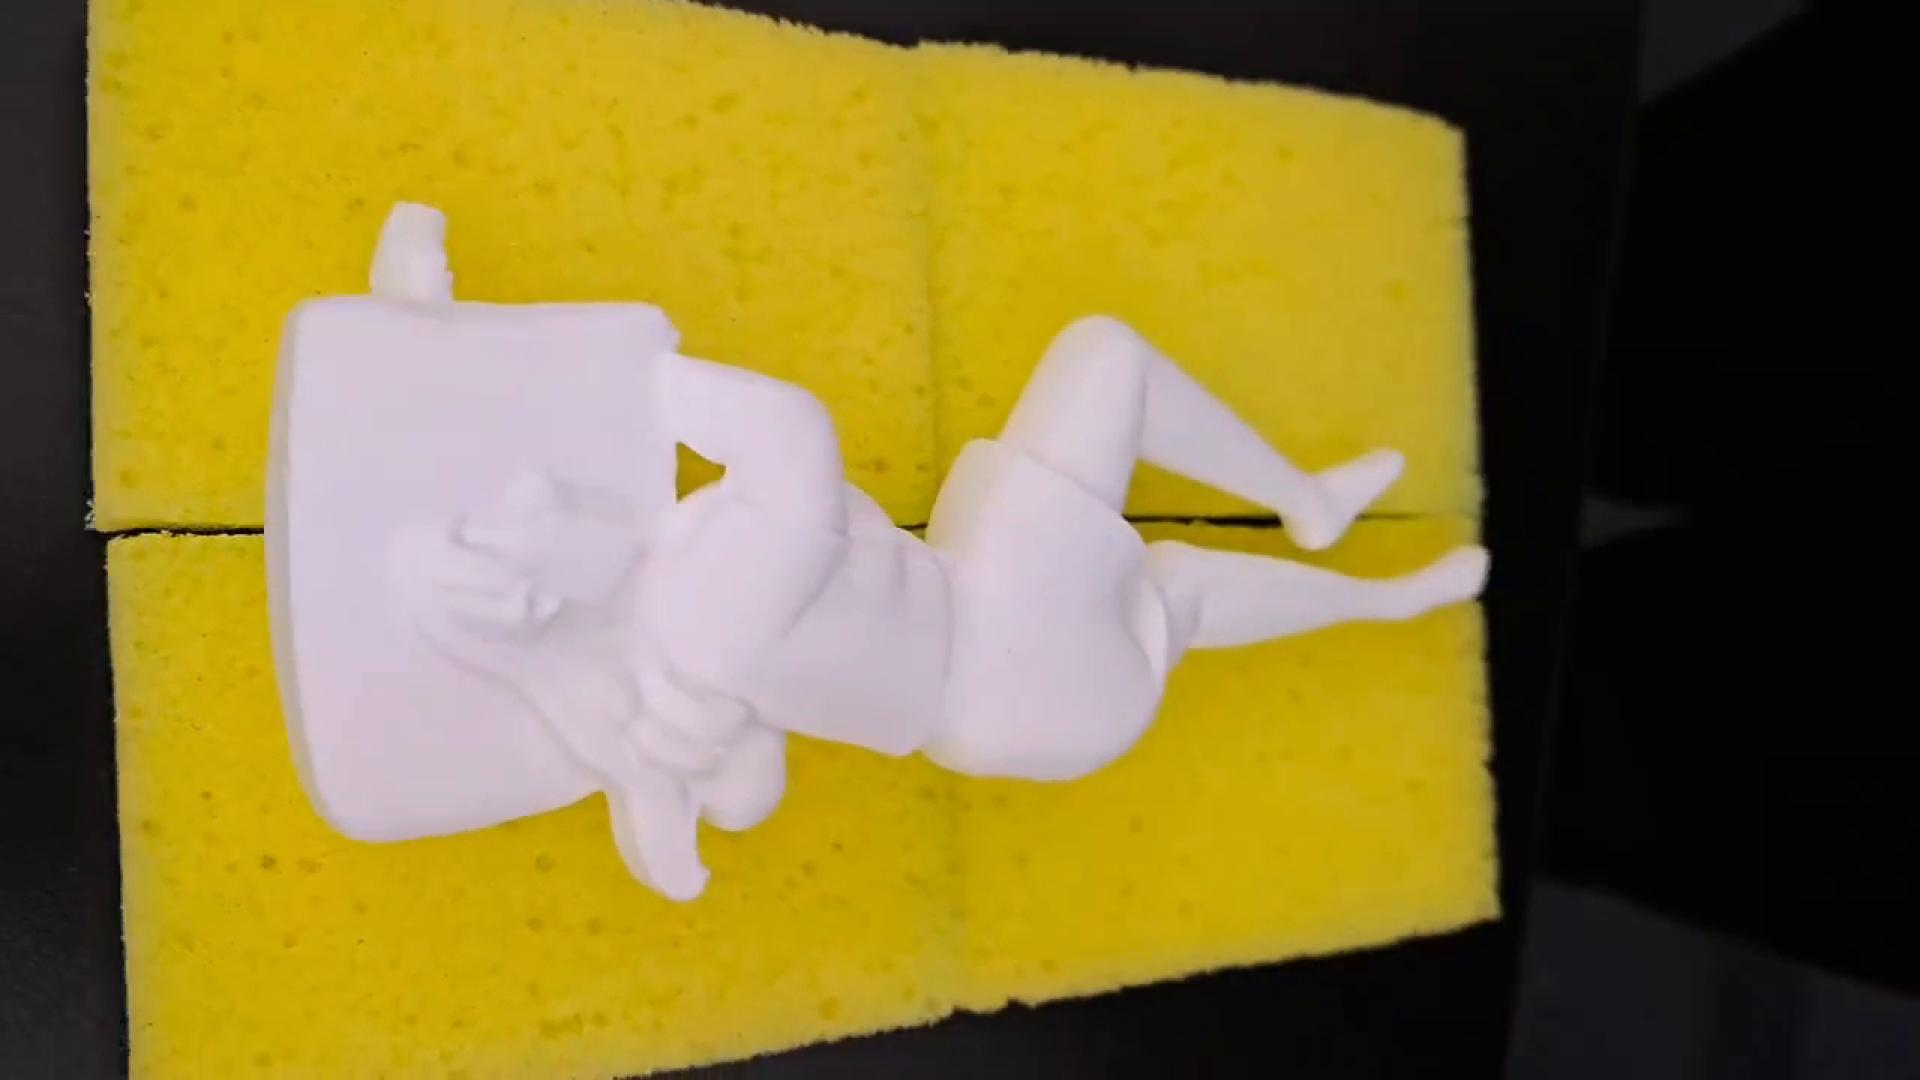Good-style: (210, 173, 1506, 915)
